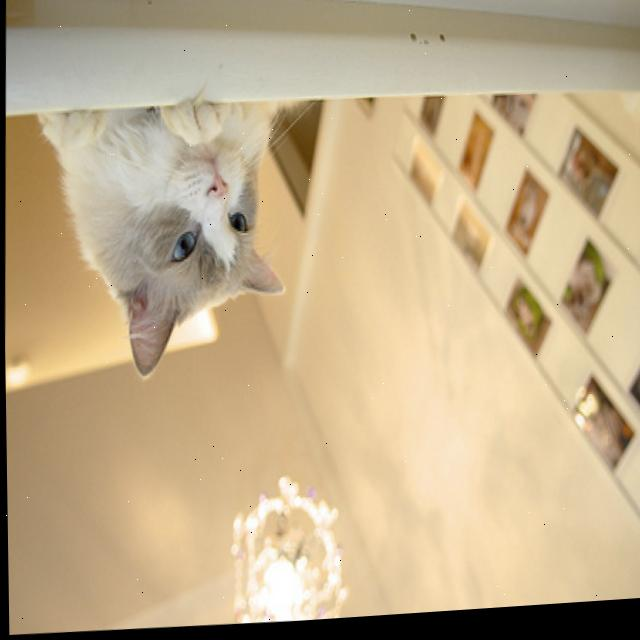Ragdoll: (26, 90, 294, 394)
